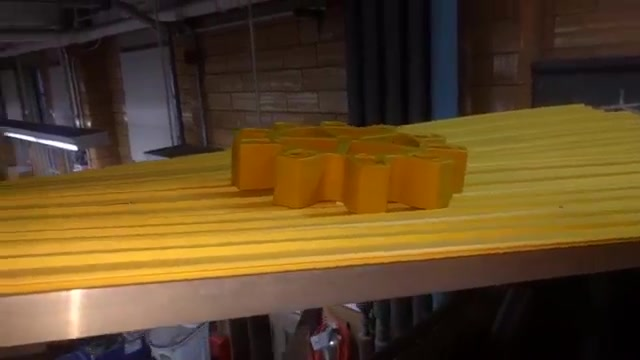gear: (230, 110, 474, 220)
